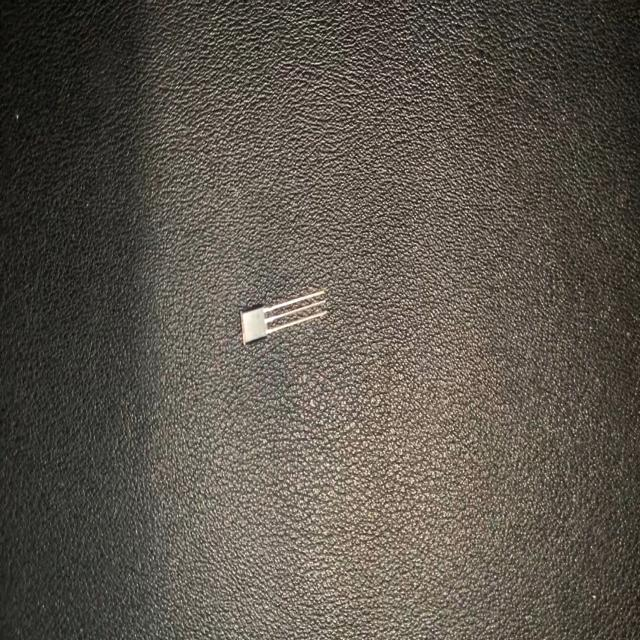BJT: (238, 284, 329, 349)
